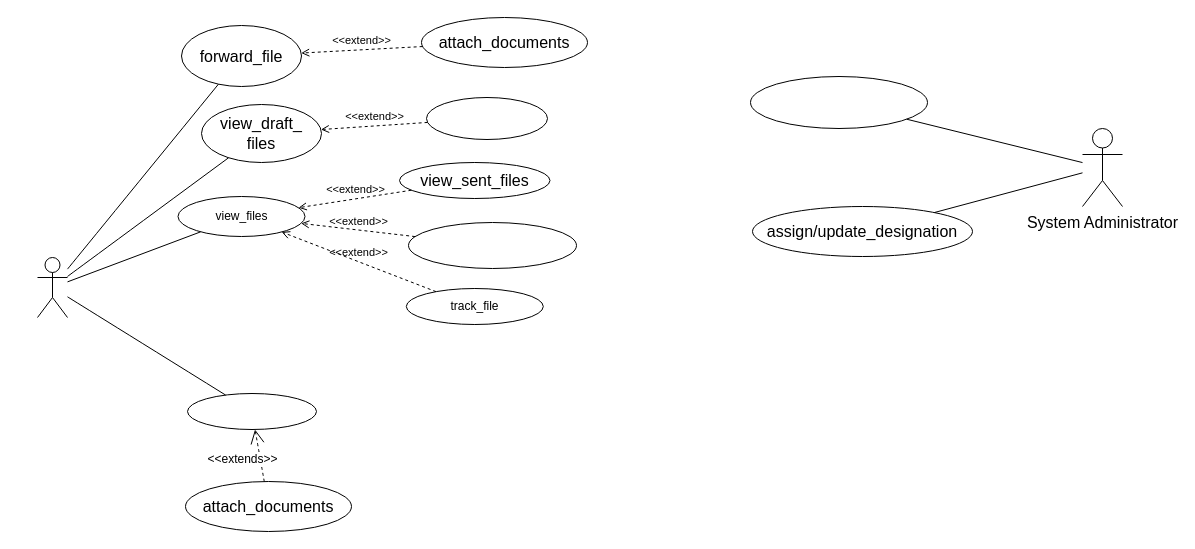
Some shapes in this 1195 by 549 pixel diagram are drawn without their labels. Each missing label, with the box of its shape:
create_designation: (750, 76, 928, 128)
create_file: (186, 392, 316, 430)
delete_draft: (426, 96, 548, 140)
Employee: (36, 256, 68, 318)
view_received_files: (408, 222, 576, 268)
